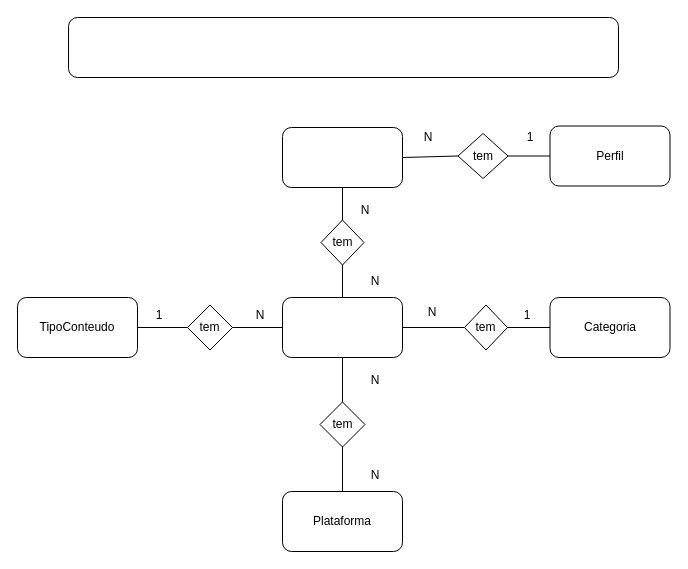
This 688x569 diagram has some shape labels left out. Each missing label, with the centre of its shape:
Lancamento: [342,327]
Modelo_Conceitual: [343,47]
Usuarios: [342,157]
